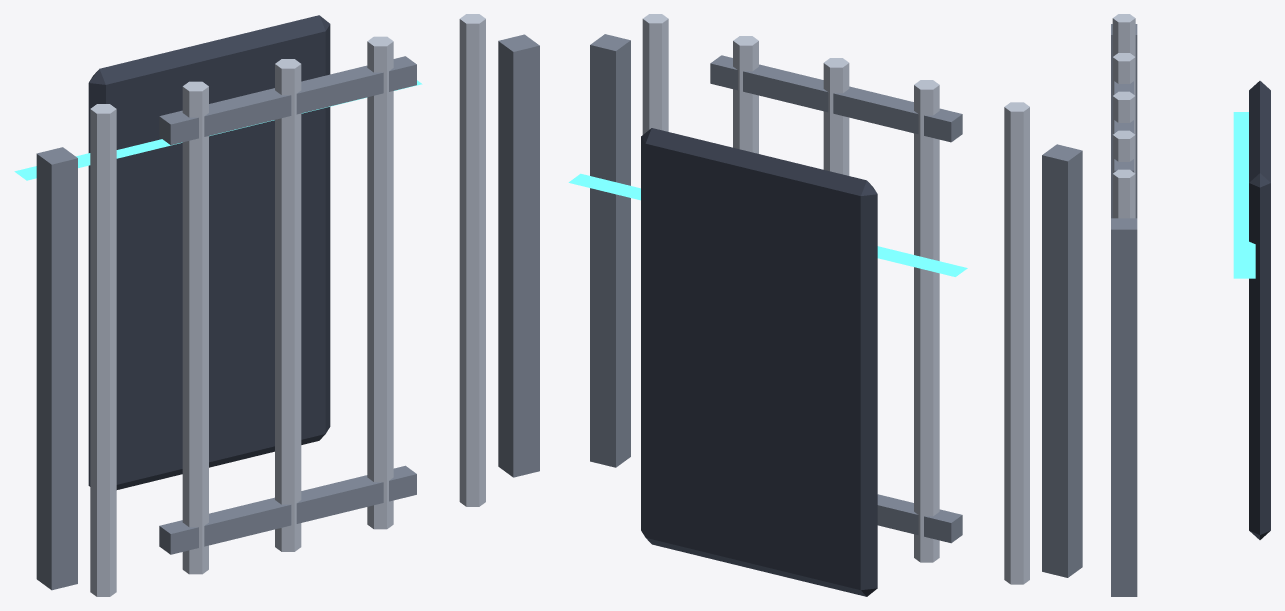
Rendered from obstacle_key_chamber.glb.
The picture shows the model from 3 angles, left to right: view 1: azimuth 30°, elevation 25°; view 2: azimuth 150°, elevation 25°; view 3: azimuth 270°, elevation 25°; orthographic projection. The views are drawn at different scales.
Visible parts, largest first — view 1: obstacle_key_chamber; view 2: obstacle_key_chamber; view 3: obstacle_key_chamber.
Part boxes in pixels (box(x1,y1,x2,y2)): obstacle_key_chamber: box(14, 14, 539, 596); obstacle_key_chamber: box(568, 14, 1082, 596); obstacle_key_chamber: box(1111, 14, 1270, 596).
Bounding box in the file's own units: 2.22 × 2.1 × 0.73.
